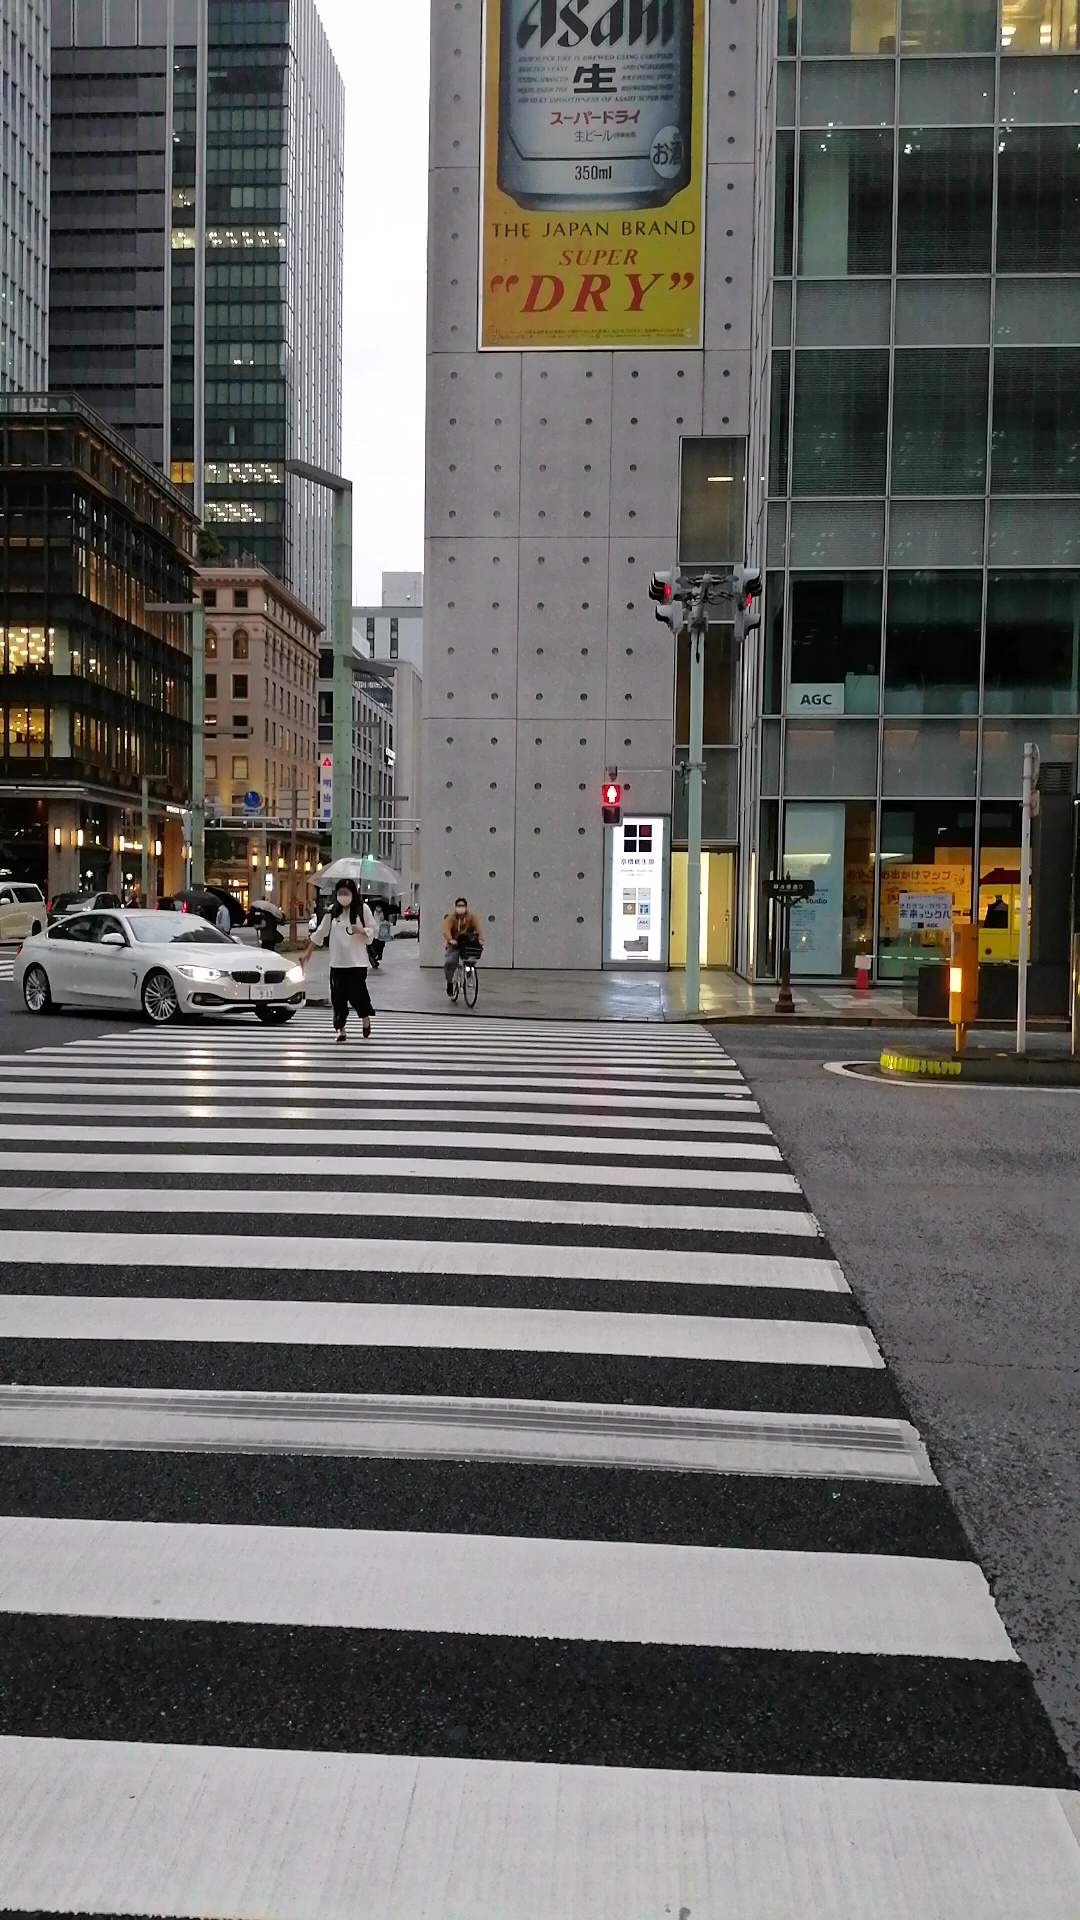red: (600, 781, 622, 825)
